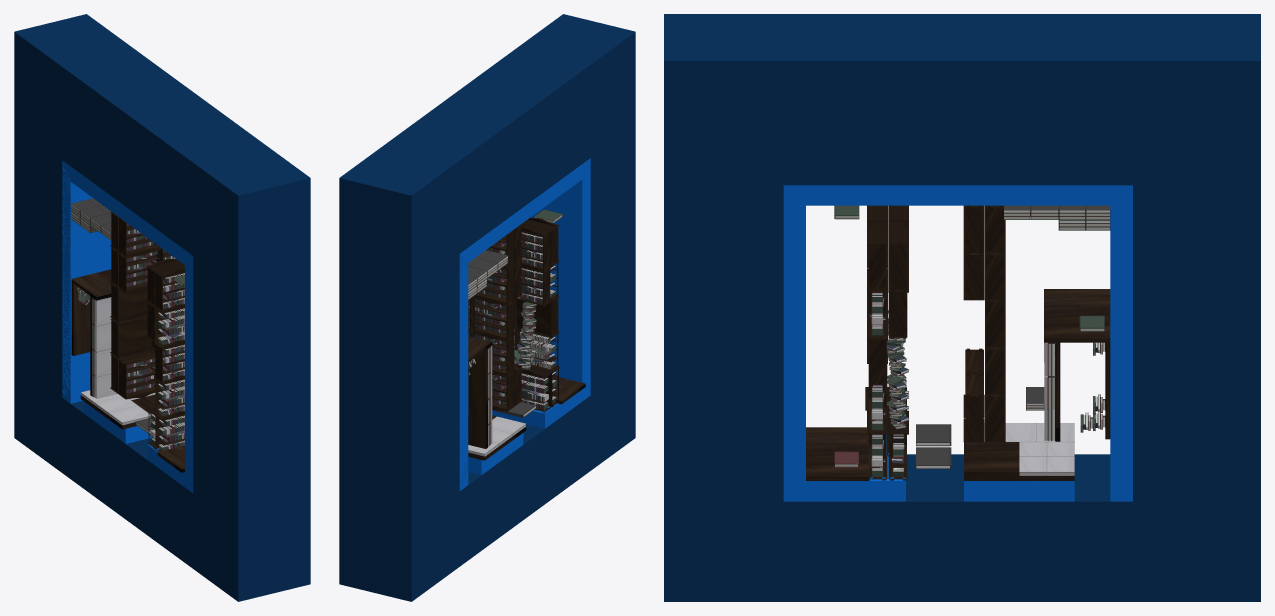
Rendered from FaceC2.glb.
The picture shows the model from 3 angles, left to right: view 1: azimuth 30°, elevation 25°; view 2: azimuth 150°, elevation 25°; view 3: azimuth 270°, elevation 25°; orthographic projection. The views are drawn at different scales.
Parts seen in each view (by area): view 1: paredeTRUETRUE-col.004, PlanoTrue-col.003, livros.005-col, livros.006-col, livros.007-col, livrosSTACK-col.005, livros.008-col, livros.003-col.001, livros.001-col.001, livros.025-col.002, livrosSTACK-col.004, Cubo-col.002 (+4 smaller); view 2: paredeTRUETRUE-col.004, PlanoTrue-col.003, livros.006-col, livros.007-col, livros.005-col, livros.003-col.001, Cubo-col.004, livros.001-col.001, livrosSTACK-col.004, livros.008-col, livros.004-col, PilhaDeLivros-col.025 (+3 smaller); view 3: paredeTRUETRUE-col.004, PlanoTrue-col.003, livros.005-col, livros.003-col.001, Cubo-col, livros.007-col, Cubo-col.005, livros.025-col.002, livros.008-col, Cubo-col.003, livrosSTACK-col.004, livros.00-col (+7 smaller).
Boxes of the visible parts, x1=… form: paredeTRUETRUE-col.004: x1=14, y1=14, x2=310, y2=601; PlanoTrue-col.003: x1=62, y1=160, x2=193, y2=492; livros.005-col: x1=110, y1=212, x2=175, y2=292; livros.006-col: x1=110, y1=283, x2=155, y2=358; livros.007-col: x1=146, y1=301, x2=184, y2=383; livrosSTACK-col.005: x1=92, y1=297, x2=117, y2=398; livros.008-col: x1=110, y1=348, x2=155, y2=399; livros.003-col.001: x1=146, y1=258, x2=184, y2=311; livros.001-col.001: x1=147, y1=406, x2=184, y2=451; livros.025-col.002: x1=81, y1=390, x2=155, y2=425; livrosSTACK-col.004: x1=71, y1=198, x2=111, y2=240; Cubo-col.002: x1=71, y1=282, x2=90, y2=355; paredeTRUETRUE-col.004: x1=339, y1=14, x2=635, y2=601; PlanoTrue-col.003: x1=459, y1=158, x2=590, y2=490; livros.006-col: x1=468, y1=297, x2=515, y2=376; livros.007-col: x1=514, y1=260, x2=559, y2=336; livros.005-col: x1=473, y1=224, x2=522, y2=305; livros.003-col.001: x1=521, y1=217, x2=559, y2=270; Cubo-col.004: x1=468, y1=348, x2=487, y2=448; livros.001-col.001: x1=516, y1=363, x2=560, y2=412; livrosSTACK-col.004: x1=468, y1=250, x2=508, y2=299; livros.008-col: x1=491, y1=364, x2=522, y2=411; livros.004-col: x1=514, y1=328, x2=559, y2=372; PilhaDeLivros-col.025: x1=517, y1=302, x2=536, y2=369; paredeTRUETRUE-col.004: x1=664, y1=14, x2=1260, y2=601; PlanoTrue-col.003: x1=783, y1=185, x2=1132, y2=501; livros.005-col: x1=963, y1=205, x2=1005, y2=300; livros.003-col.001: x1=867, y1=205, x2=908, y2=291; Cubo-col: x1=1044, y1=289, x2=1110, y2=342; livros.007-col: x1=867, y1=245, x2=908, y2=386; Cubo-col.005: x1=806, y1=427, x2=869, y2=480; livros.025-col.002: x1=984, y1=423, x2=1074, y2=475; livros.008-col: x1=963, y1=348, x2=1005, y2=442; Cubo-col.003: x1=964, y1=442, x2=1074, y2=480; livrosSTACK-col.004: x1=1004, y1=205, x2=1110, y2=230; livros.00-col: x1=867, y1=410, x2=908, y2=480.
Size of the model in its own units: 105 by 509 by 509.
412 materials, 409 textured.
